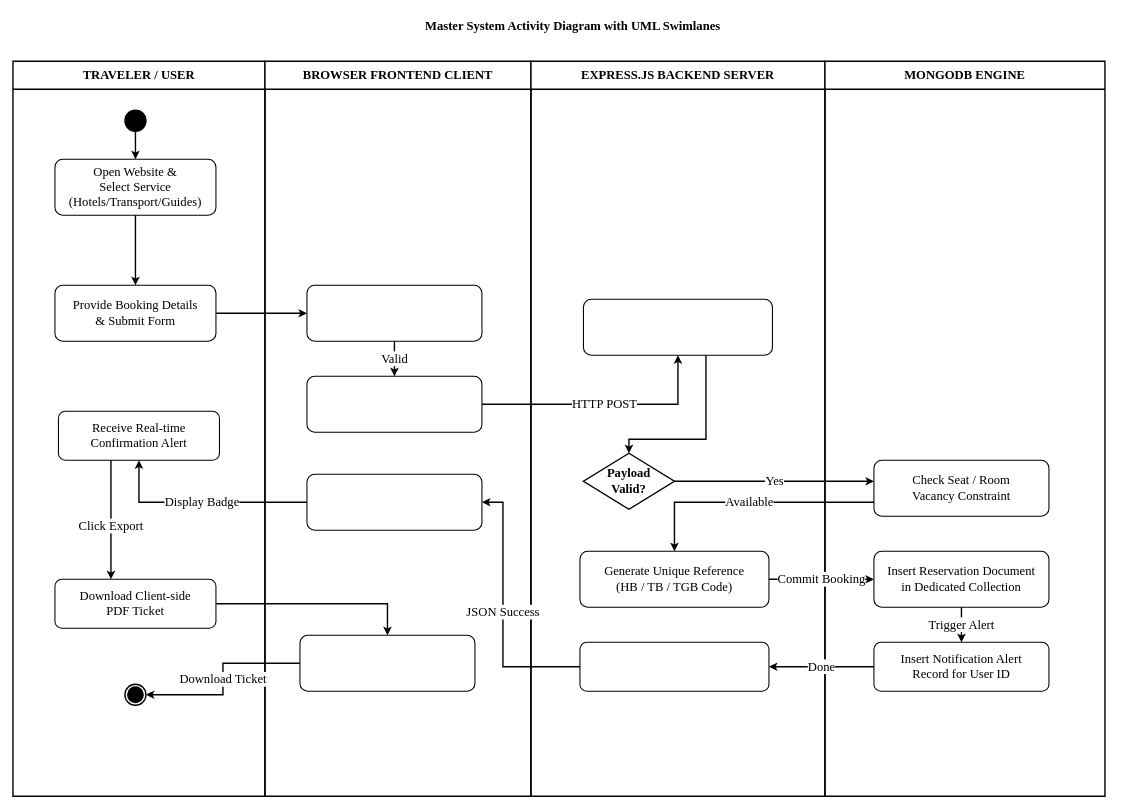
Some shapes in this 1145 by 809 pixel diagram are drawn without their labels. Here are the shapes that lost their labels. From the top down, the centre of each, then its label:
[394,312]: Perform Local Form Validation & Auth Check
[678,326]: Validate Payload Schema & Check Sanitization
[394,403]: Trigger Fetch REST API POST Request with JSON
[394,501]: Render Confirmation UI & Increment Bell Badge
[387,662]: pdf-ticket.js Compiles Vector PDF Document
[674,666]: Return HTTP 200 OK JSON Response
